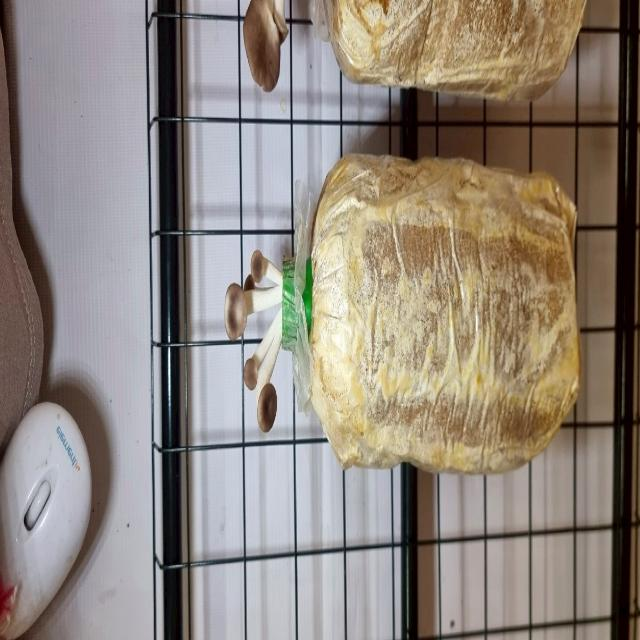normal: (220, 238, 294, 435)
